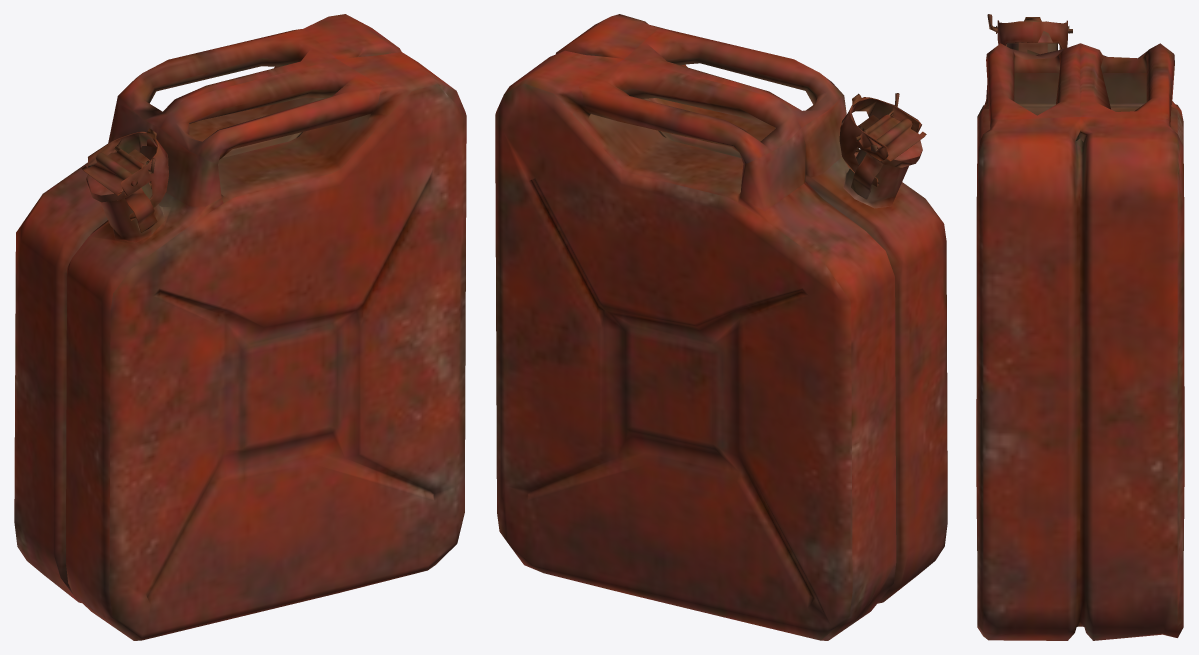
The model's file is metal_jerrycan.glb.
3 renders of one model, left to right at view 1: azimuth 30°, elevation 25°; view 2: azimuth 150°, elevation 25°; view 3: azimuth 270°, elevation 25°, orthographic. The views are drawn at different scales.
Visible parts, largest first — view 1: metal_jerrycan; view 2: metal_jerrycan; view 3: metal_jerrycan.
Part boxes in pixels (box(x1,y1,x2,y2)): metal_jerrycan: box(14, 14, 466, 640); metal_jerrycan: box(495, 14, 947, 640); metal_jerrycan: box(976, 14, 1184, 640).
Size of the model in its own units: 0.3501 by 0.4546 by 0.1711.
Materials: 1 (1 with a texture image).
